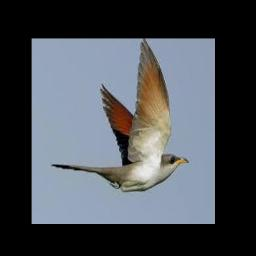Cuckoo: (52, 38, 188, 191)
